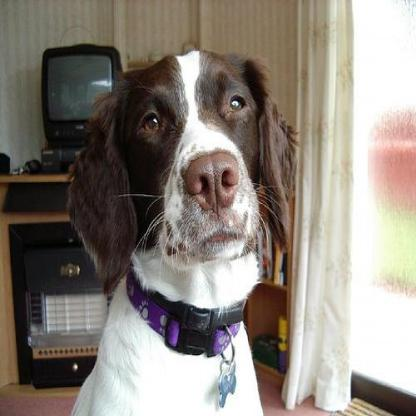English_springer: (64, 45, 302, 414)
